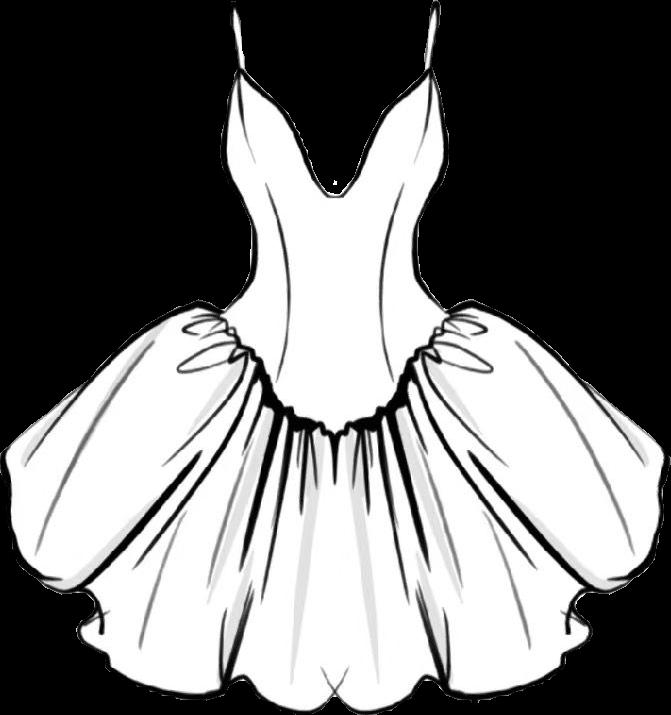Bodice: (218, 0, 455, 429)
Hemline: (0, 452, 670, 714)
Neckline: (232, 0, 442, 198)
Skirt: (1, 301, 666, 714)
Waistline: (216, 303, 458, 440)
